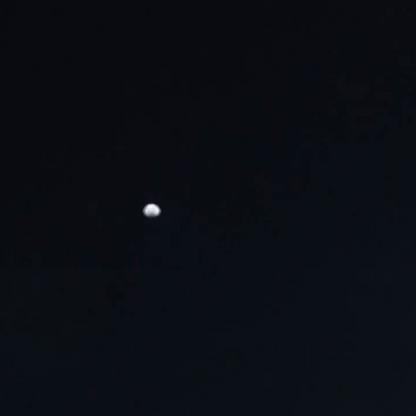ball: (138, 196, 166, 220)
